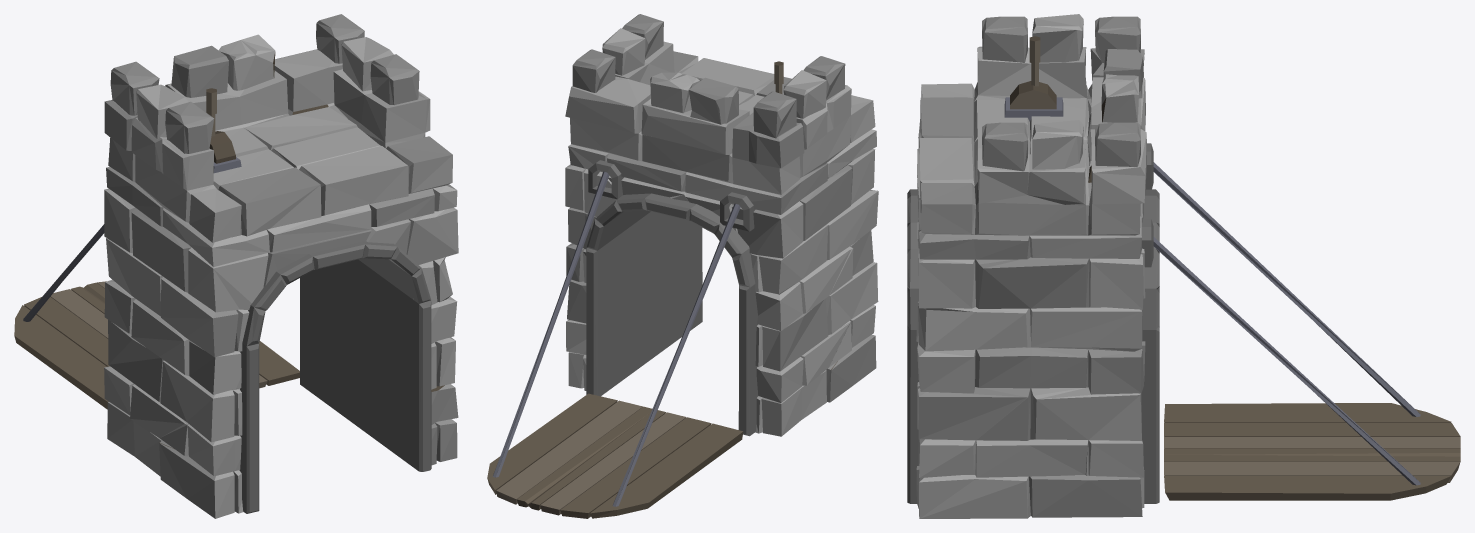
The model's file is _Minnor_gates_01.fbx.
The picture shows the model from 3 angles, left to right: view 1: azimuth 30°, elevation 25°; view 2: azimuth 150°, elevation 25°; view 3: azimuth 270°, elevation 25°; orthographic projection. The views are drawn at different scales.
Parts seen in each view (by area): view 1: Minnor_gates_01; view 2: Minnor_gates_01; view 3: Minnor_gates_01.
Boxes of the visible parts, x1,y1,x2,y2 form: Minnor_gates_01: (14,14,458,518); Minnor_gates_01: (487,14,878,518); Minnor_gates_01: (907,14,1460,518).
Size of the model in its own units: 458 by 637 by 828.
